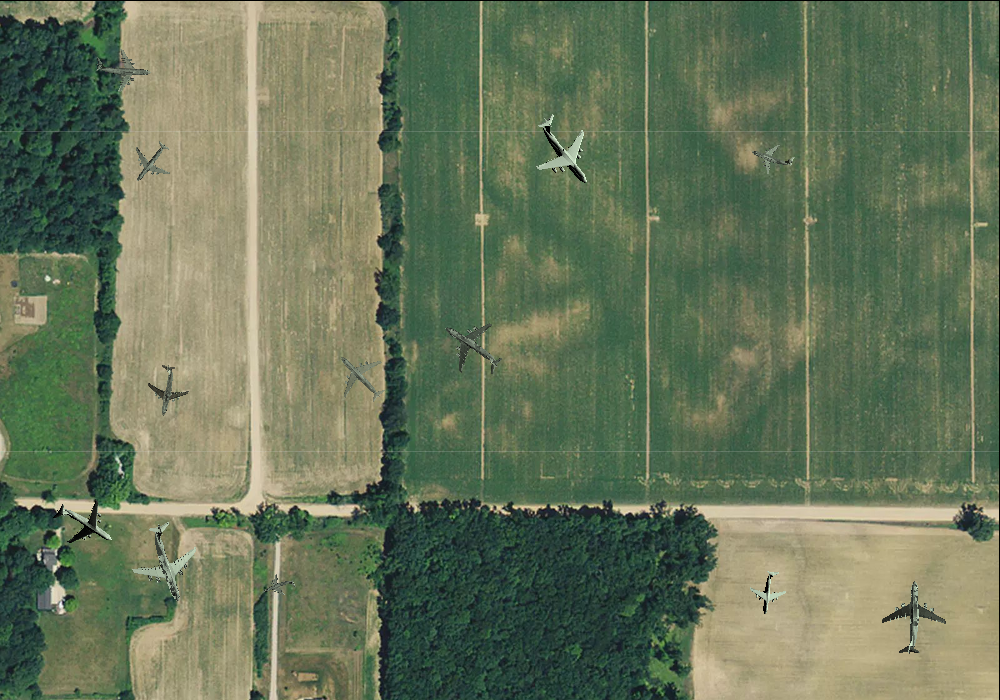plane: (513, 98, 615, 202), (118, 512, 216, 613), (427, 302, 516, 391), (41, 483, 126, 566), (322, 339, 398, 415), (877, 581, 948, 655), (119, 130, 182, 193), (137, 360, 194, 420), (93, 41, 151, 95), (745, 131, 800, 182), (746, 568, 792, 617), (259, 568, 299, 606)
